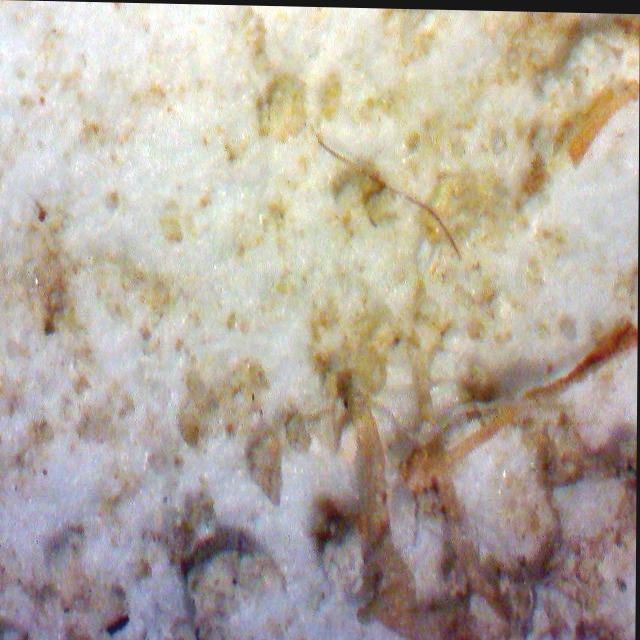microplastic: (301, 123, 476, 259)
